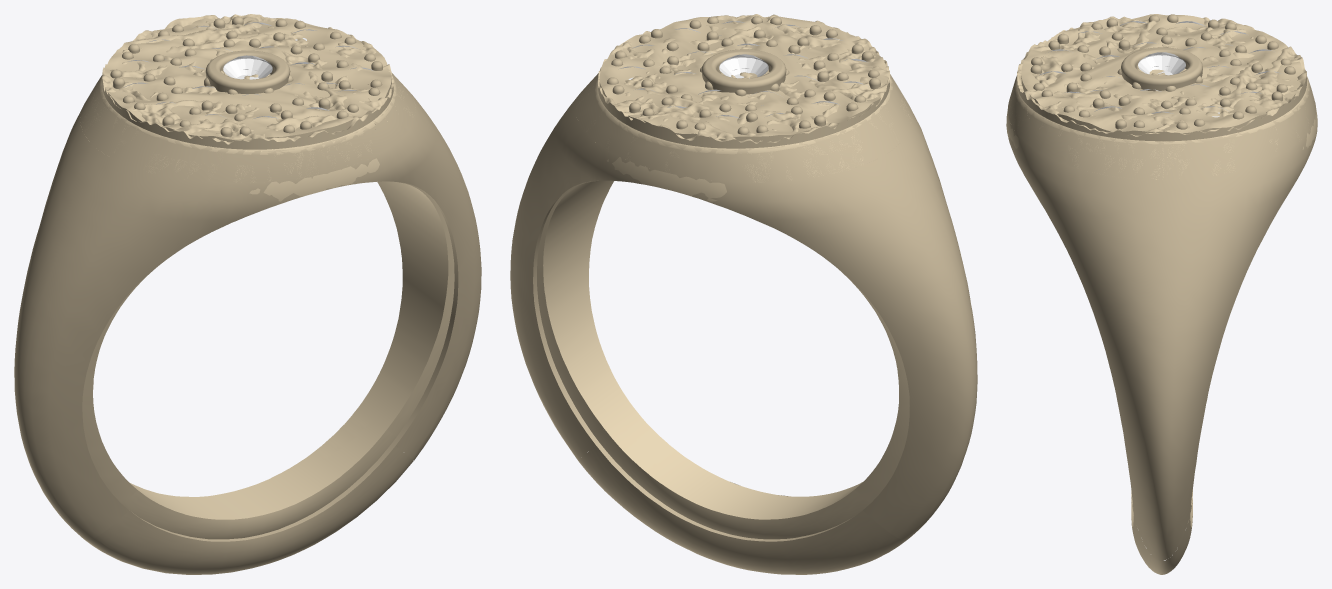
Rendered from signet_color_compressed.gltf.
The picture shows the model from 3 angles, left to right: view 1: azimuth 30°, elevation 25°; view 2: azimuth 150°, elevation 25°; view 3: azimuth 270°, elevation 25°; orthographic projection. The views are drawn at different scales.
Visible parts, largest first — view 1: object_165, object_167, object_1, object_162, object_164, object_161, object_163, object_22, object_3, object_21, object_14, object_12 (+3 smaller); view 2: object_165, object_167, object_1, object_162, object_164, object_161, object_163, object_22, object_3, object_21, object_12, object_14 (+2 smaller); view 3: object_165, object_1, object_162, object_164, object_161, object_163, object_22, object_3, object_21, object_14, object_12, Bezel (+2 smaller).
Boxes of the visible parts, x1,y1,x2,y2 form: object_165: (14,88,481,574); object_167: (82,158,454,539); object_1: (80,73,415,183); object_162: (100,18,391,179); object_164: (83,14,396,154); object_161: (104,18,391,142); object_163: (100,14,393,150); object_22: (84,16,382,136); object_3: (81,74,415,182); object_21: (102,16,382,136); object_14: (206,50,289,93); object_12: (87,77,414,180); object_165: (510,89,977,574); object_167: (537,157,909,539); object_1: (575,73,912,182); object_162: (597,15,907,146); object_164: (595,14,892,173); object_161: (597,15,888,142); object_163: (596,14,892,153); object_22: (607,16,880,181); object_3: (576,75,911,182); object_21: (597,16,880,134); object_12: (577,75,898,181); object_14: (702,50,785,93); object_165: (1006,110,1315,574); object_1: (1008,80,1316,179); object_162: (1015,15,1300,174); object_164: (1014,16,1309,144); object_161: (1021,14,1302,136); object_163: (1016,15,1308,142); object_22: (1030,14,1295,129); object_3: (1009,89,1315,179); object_21: (1031,14,1292,142); object_14: (1121,47,1202,90); object_12: (1008,76,1315,177); Bezel: (1121,47,1291,155).
Size of the model in its own units: 21.5 by 22.58 by 12.97.
